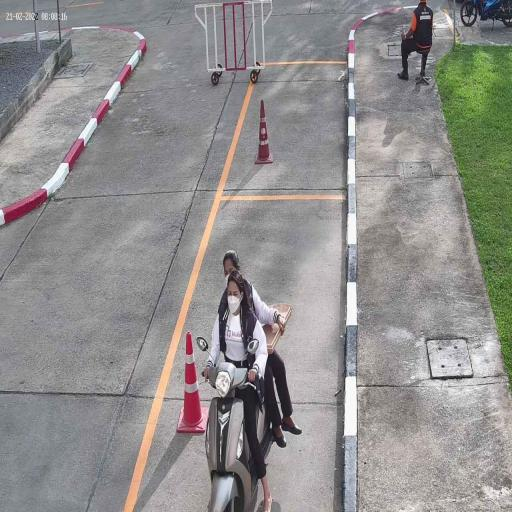motorcycle: (200, 362, 259, 512), (459, 0, 512, 31)
